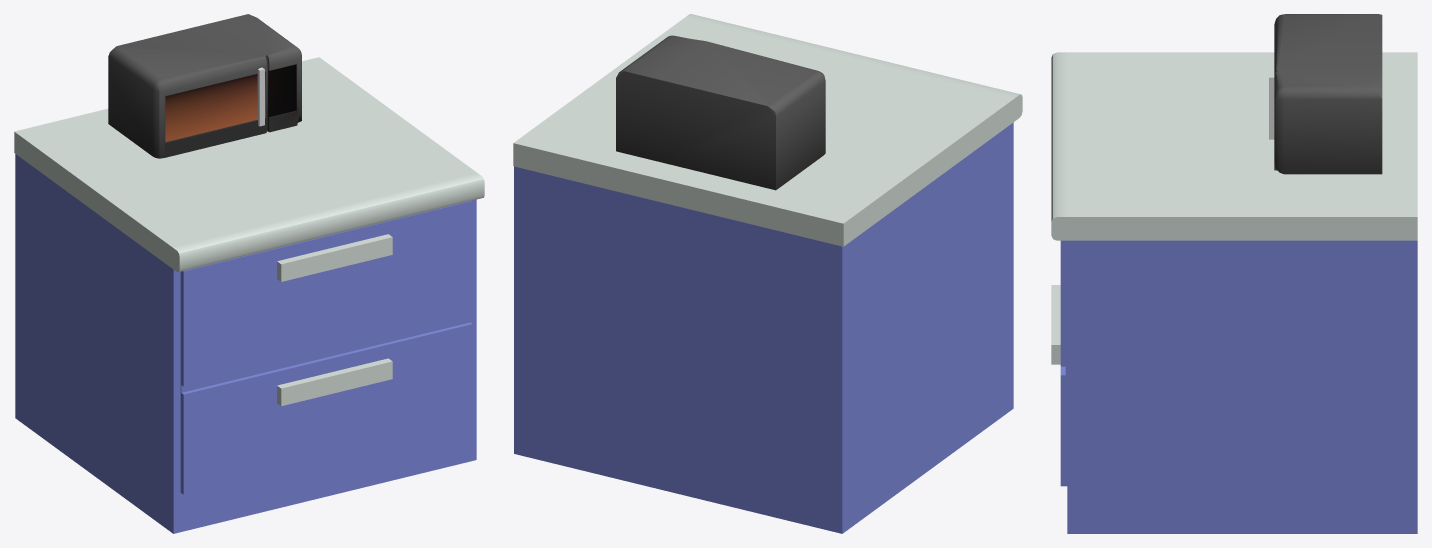
File: Microwavefbx.fbx
The picture shows the model from 3 angles, left to right: view 1: azimuth 30°, elevation 25°; view 2: azimuth 150°, elevation 25°; view 3: azimuth 270°, elevation 25°; orthographic projection. The views are drawn at different scales.
Visible parts, largest first — view 1: Cube.009, Plane, Cube.010, Cube.011; view 2: Cube.009, Plane; view 3: Cube.009, Plane, Cube.011.
Boxes of the visible parts, x1,y1,x2,y2 form: Cube.009: (14,57,484,533); Plane: (108,14,301,158); Cube.010: (277,234,392,281); Cube.011: (277,358,392,406); Cube.009: (513,14,1022,533); Plane: (616,35,825,190); Cube.009: (1051,52,1417,533); Plane: (1274,14,1382,174); Cube.011: (1051,285,1060,364).
Size of the model in its own units: 111 by 126 by 105.
